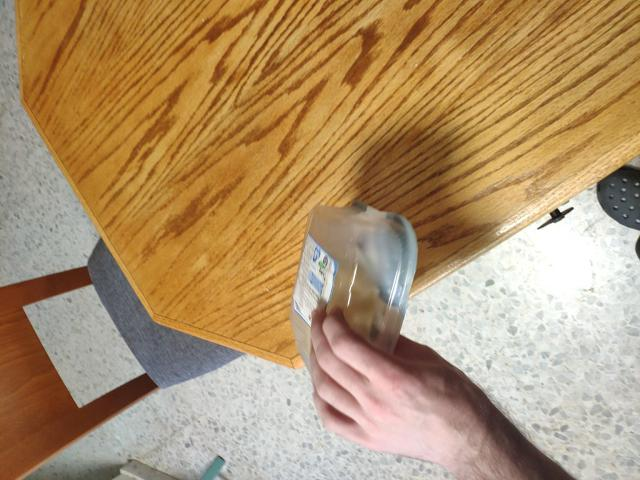cheese: (286, 241, 429, 401)
